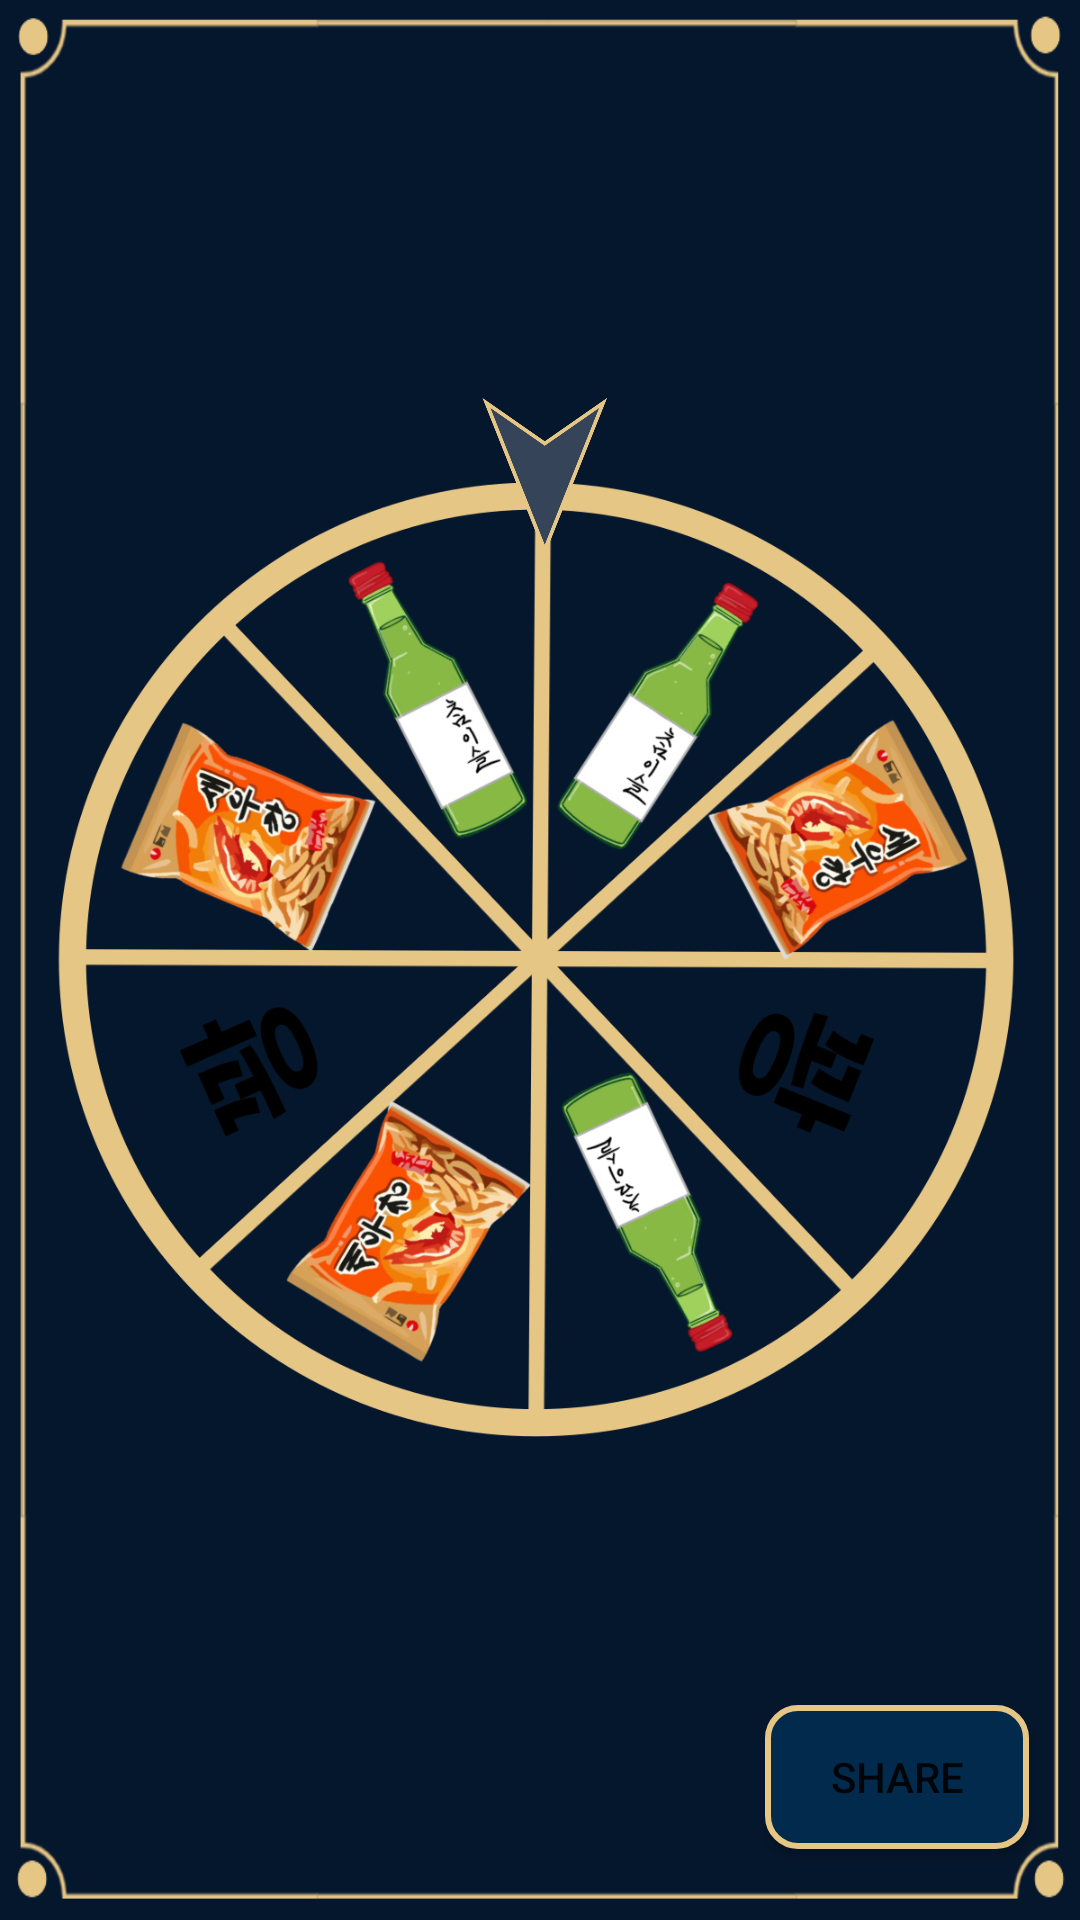

Point at icon controls on the screen. Image size 1080 × 1920, points as (x=x, y=y).
needle: (x=563, y=516)
